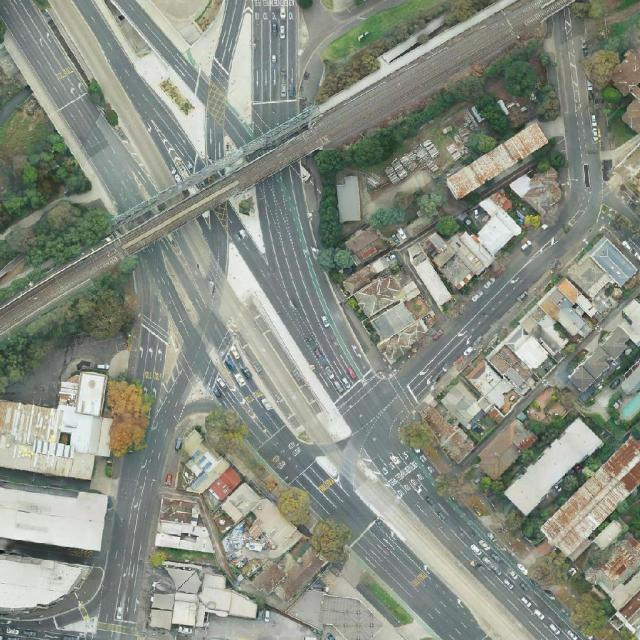building: (141, 422, 331, 618), (501, 417, 604, 517), (149, 561, 261, 639), (443, 120, 549, 201), (361, 287, 445, 365), (418, 213, 497, 293), (564, 321, 636, 395), (582, 531, 640, 612), (0, 554, 83, 610), (473, 416, 540, 481), (413, 398, 477, 465), (460, 194, 524, 258), (509, 158, 573, 221), (351, 266, 421, 319), (156, 495, 219, 553), (403, 242, 454, 308), (340, 251, 401, 297), (341, 222, 387, 266), (592, 516, 629, 552), (335, 175, 361, 223)
greenland: (311, 69, 497, 189), (523, 543, 640, 640), (481, 24, 589, 127), (502, 395, 579, 470), (300, 173, 355, 276), (363, 181, 449, 233), (457, 457, 520, 519), (195, 401, 254, 461), (108, 380, 152, 458), (545, 451, 605, 508), (465, 92, 513, 163), (578, 42, 629, 92), (308, 517, 355, 565), (432, 468, 478, 504), (518, 501, 552, 547), (579, 406, 619, 445), (396, 416, 436, 455), (274, 486, 309, 525), (440, 0, 476, 32), (432, 212, 463, 242), (597, 82, 625, 109), (570, 1, 591, 19)
metalled_road: (171, 310, 379, 553), (99, 243, 220, 628), (219, 165, 377, 412), (0, 0, 158, 220), (349, 517, 492, 640), (254, 0, 401, 110), (0, 311, 131, 429), (151, 218, 241, 329), (111, 0, 207, 93), (198, 0, 246, 162), (377, 364, 421, 423), (213, 202, 255, 256), (211, 103, 258, 151), (202, 202, 229, 275), (335, 551, 370, 587), (96, 619, 147, 640)
